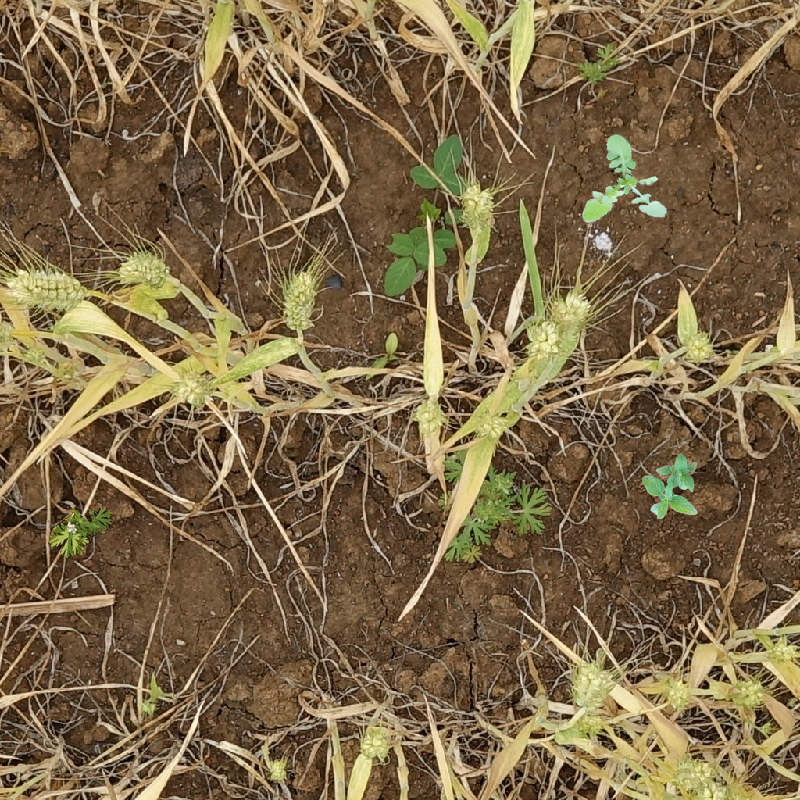spikelet: (3, 265, 88, 311), (278, 266, 321, 333), (568, 658, 614, 708), (116, 247, 171, 287), (458, 180, 496, 236), (551, 289, 592, 339), (670, 755, 721, 793), (171, 369, 215, 409), (523, 315, 561, 359), (358, 718, 395, 762), (729, 674, 766, 711), (660, 674, 697, 711), (681, 328, 716, 364), (763, 635, 799, 666), (572, 708, 605, 737), (589, 226, 617, 257), (262, 754, 291, 783), (1, 313, 17, 357)
weed: (440, 451, 557, 568), (582, 134, 667, 223), (385, 220, 458, 299), (46, 506, 115, 562), (642, 453, 698, 519), (413, 136, 470, 199), (577, 45, 621, 87)
